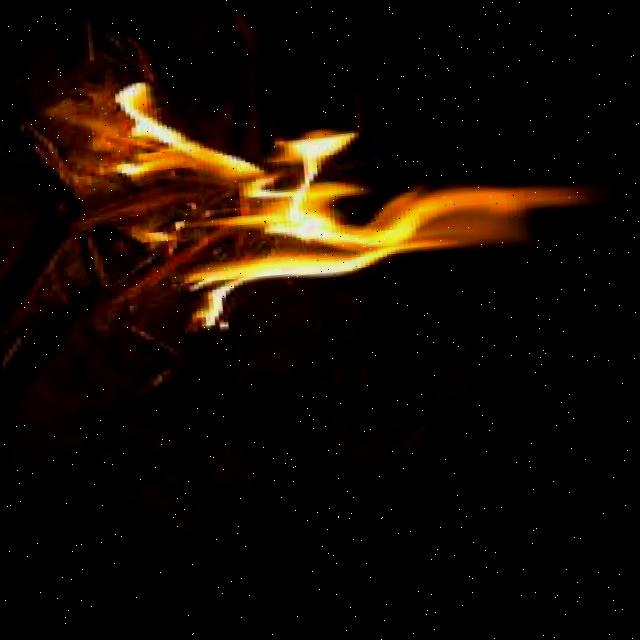fire: (106, 46, 622, 338)
